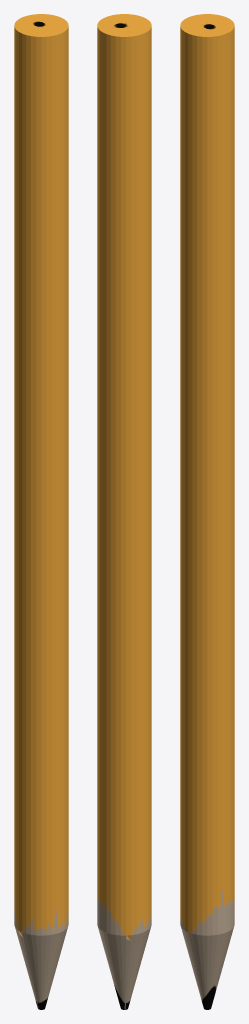
Rendered from pencil.obj.
3 views of the same model, side by side, from view 1: azimuth 90°, elevation 25°; view 2: azimuth 150°, elevation 25°; view 3: azimuth 270°, elevation 25° (orthographic).
Visible parts, largest first — view 1: Cylinder; view 2: Cylinder; view 3: Cylinder.
Part boxes in pixels (x1=…): Cylinder: x1=14, y1=14, x2=68, y2=1009; Cylinder: x1=97, y1=14, x2=151, y2=1009; Cylinder: x1=180, y1=14, x2=234, y2=1009.
Bounding box in the file's own units: 0.1099 × 2.19 × 0.1099.
1 material, 1 textured.
